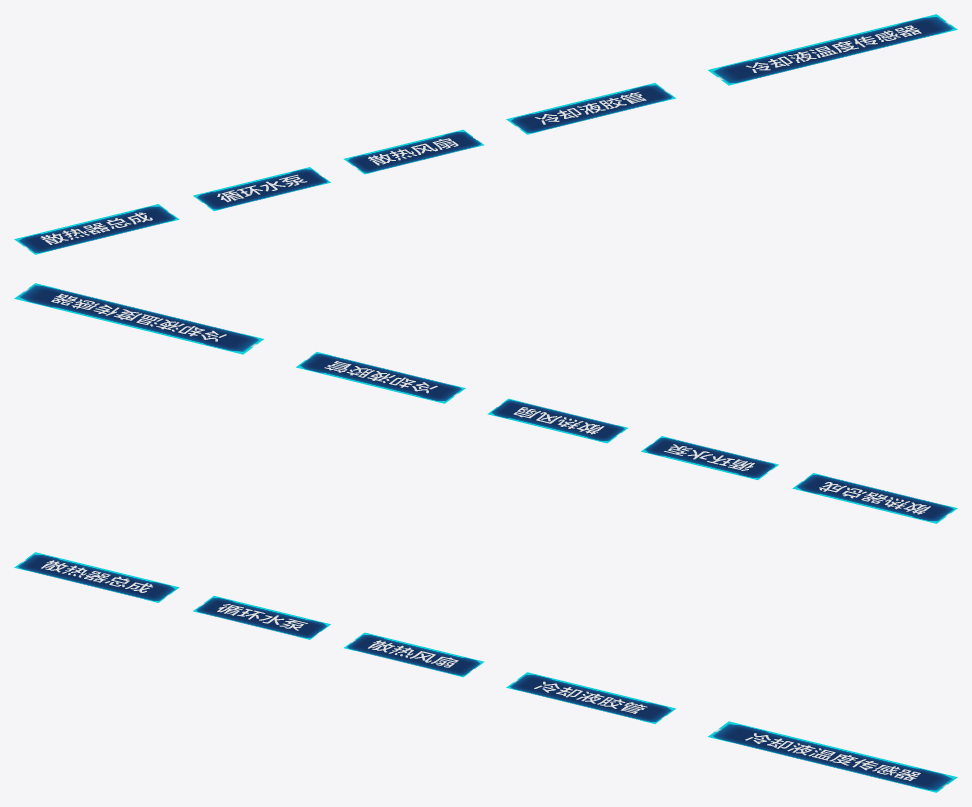
3 views of the same model, one above another, from view 1: azimuth 30°, elevation 25°; view 2: azimuth 150°, elevation 25°; view 3: azimuth 330°, elevation 25° (orthographic).
Visible parts, largest first — view 1: Object050, Object048, Plane006, Object047, Object049, Object043, Plane005, Object044, Object045, Object046; view 2: Object050, Object048, Plane006, Object047, Object049, Object043, Plane005, Object044, Object045, Object046; view 3: Object050, Object048, Plane006, Object047, Object049, Object043, Plane005, Object044, Object045, Object046.
Boxes of the visible parts, box(x1,y1,x2,y2) form: Object050: box(708, 14, 957, 85); Object048: box(506, 83, 675, 134); Plane006: box(14, 204, 179, 254); Object047: box(344, 129, 484, 174); Object049: box(193, 167, 330, 210); Object043: box(746, 25, 921, 72); Plane005: box(40, 212, 152, 244); Object044: box(535, 92, 646, 124); Object045: box(368, 138, 458, 165); Object046: box(217, 174, 307, 202); Object050: box(14, 283, 263, 354); Object048: box(296, 352, 465, 403); Plane006: box(792, 473, 957, 523); Object047: box(487, 398, 627, 443); Object049: box(641, 436, 778, 479); Object043: box(51, 293, 226, 341); Plane005: box(819, 482, 930, 514); Object044: box(324, 361, 437, 393); Object045: box(513, 407, 604, 434); Object046: box(664, 444, 754, 470); Object050: box(708, 721, 957, 792); Object048: box(506, 672, 675, 723); Plane006: box(14, 552, 179, 602); Object047: box(344, 632, 484, 677); Object049: box(193, 596, 330, 639); Object043: box(745, 733, 920, 780); Plane005: box(41, 560, 152, 592); Object044: box(534, 681, 647, 713); Object045: box(368, 640, 458, 667); Object046: box(217, 604, 307, 630).
Bounding box in the file's own units: 181 × 0.1052 × 7.24.
2 materials, 2 textured.
